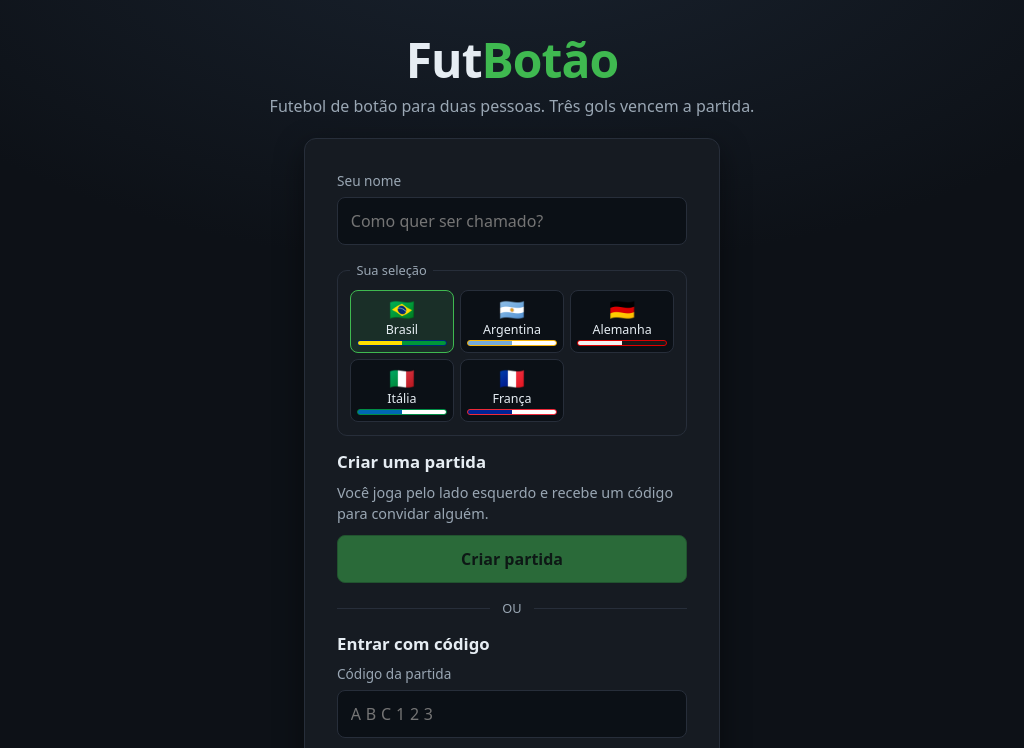
Scenario: App › vai para a sala de espera e mostra o codigo da partida
Type "Ana" into the field labelled "Seu nome" at (512, 221), box [337,197,687,245]
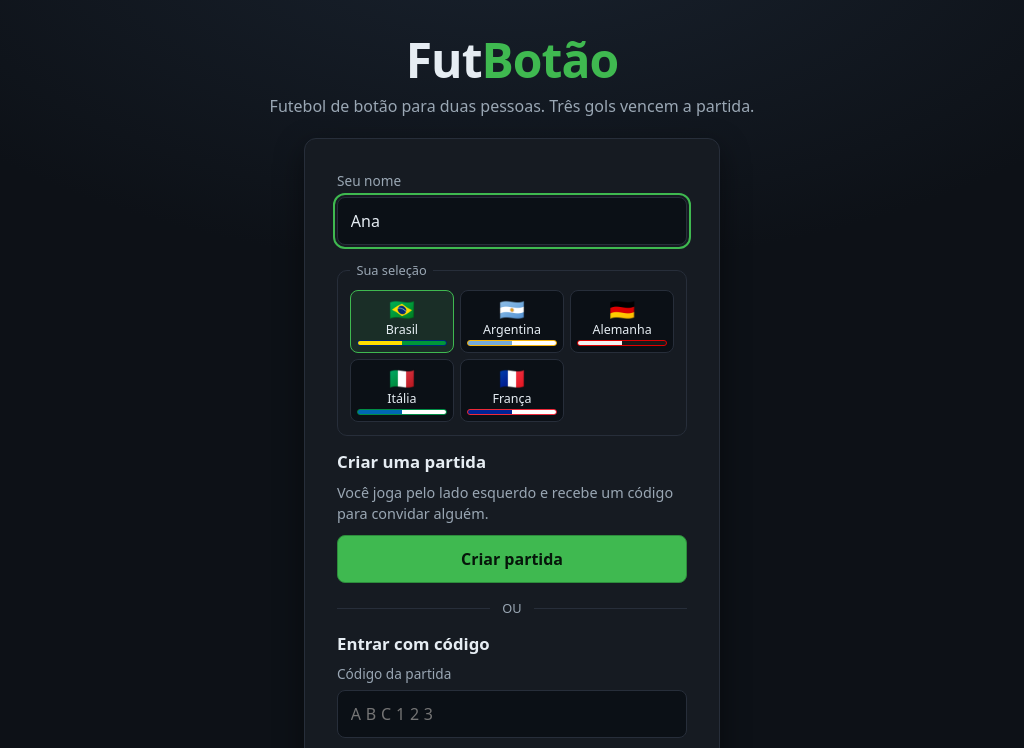
Click the button "Criar partida" at (512, 559), box [337,534,687,583]
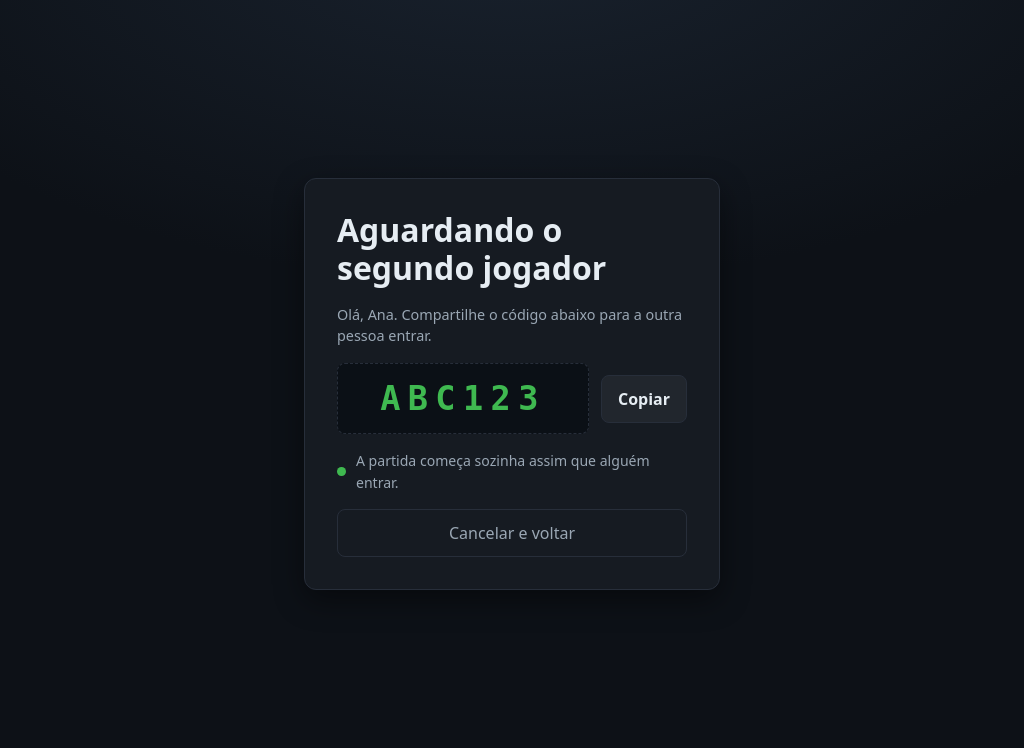
Now the heading "Aguardando o segundo jogador" is shown, box [337,208,606,289]
Now the text "ABC123" is shown, box [337,363,589,434]
Now the button "Copiar" is shown, box [601,374,687,423]
